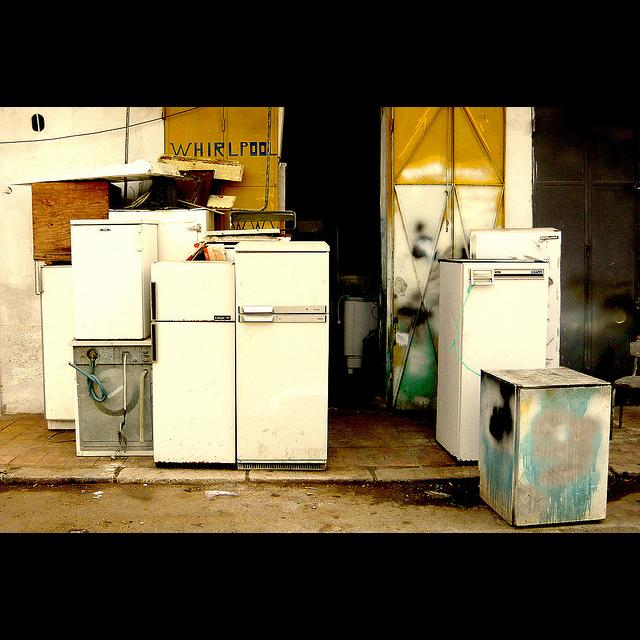Refrigerator: (436, 257, 549, 467), (231, 242, 331, 470), (475, 362, 613, 526), (151, 257, 236, 470), (468, 224, 564, 367), (68, 219, 160, 343), (73, 341, 156, 456), (36, 266, 73, 432), (108, 207, 215, 261)
